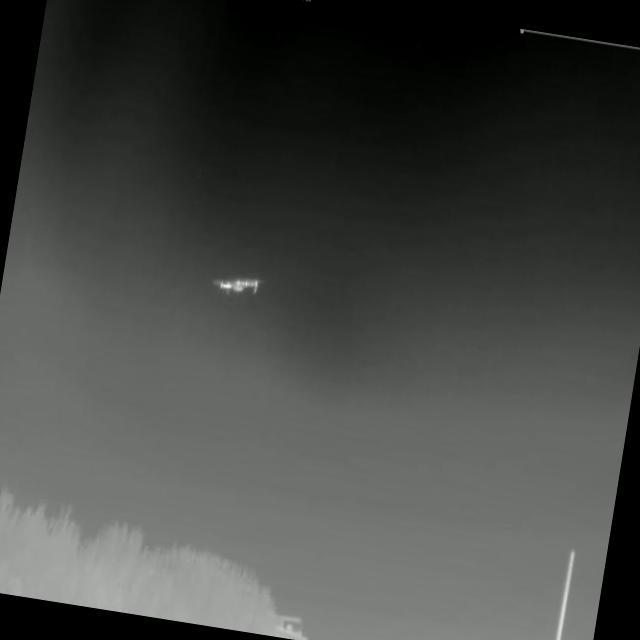DRONE: (204, 265, 270, 312)
